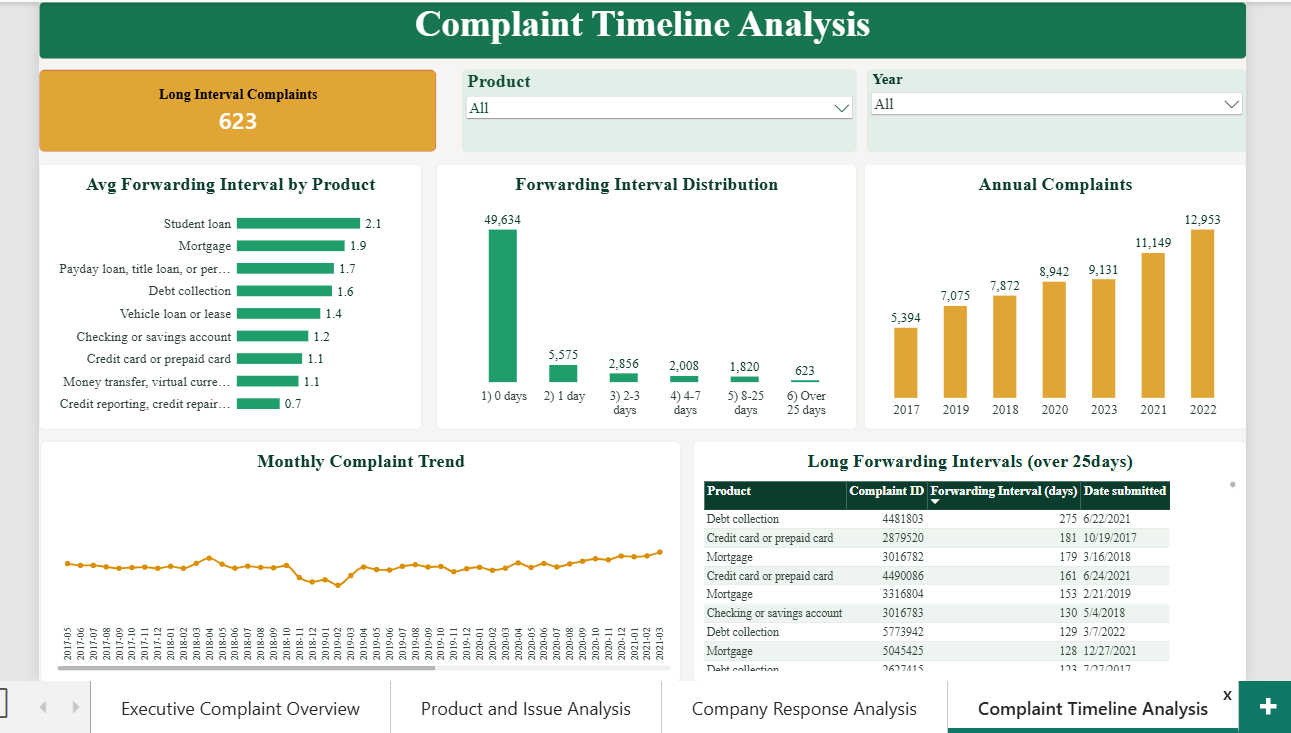

The page's visual inventory and layout, read from the dashboard file:
{"tool":"powerbi","page":{"name":"Complaint Timeline Analysis","canvas":[1920,1080],"ordinal":3},"visuals":[{"type":"lineChart","title":"Monthly Complaint Trend","fields":{"Category":["Data.Year-Month"],"Y":["Data.Total Complaints"]},"box":[2.4,699.1,1018.8,381.7],"z":0},{"type":"clusteredColumnChart","title":"Annual Complaints","fields":{"Category":["Data.YEAR"],"Y":["Data.Total Complaints"]},"box":[1312.3,257.7,608.4,422.3],"z":1000},{"type":"clusteredColumnChart","title":"Forwarding Interval Distribution","fields":{"Category":["Data.Interval Band"],"Y":["Data.Total Complaints"]},"box":[632.3,257.7,668.1,422.3],"z":3000},{"type":"clusteredBarChart","fields":{"Category":["Data.Product"],"Y":["Data.Avg Forwarding Interval"]},"box":[0,257.7,608.4,422.3],"z":4000},{"type":"tableEx","title":"Long Forwarding Intervals (over 25days)","fields":{"Values":["Data.Product","Data.Complaint ID","Data.Forwarding Interval (days)","Data.Date submitted"]},"box":[1040.3,699.1,880.4,381.7],"z":5000},{"type":"cardVisual","fields":{"Data":["Data.Long Interval Complaints"]},"box":[0,107.4,632.3,131.2],"z":6000},{"type":"textbox","box":[0,0,1920.7,90.7],"z":7000},{"type":"slicer","fields":{"Values":["Data.Date received.Variation.Date Hierarchy.Year"]},"box":[1317,107.4,603.6,131.2],"z":8000},{"type":"slicer","fields":{"Values":["Data.Product"]},"box":[672.8,107.4,627.5,131.2],"z":9000}]}

Visuals, with their boxes on the page's 1920x1080 design canvas (x1, y1, x2, y2). These are canvas units, not pixel positions in the 1291x733 screenshot, which may show the page scaled, cropped or inside an application window:
"Monthly Complaint Trend" lineChart: 2:699:1021:1081
"Annual Complaints" clusteredColumnChart: 1312:258:1921:680
"Forwarding Interval Distribution" clusteredColumnChart: 632:258:1300:680
clusteredBarChart - Data.Product x Data.Avg Forwarding Interval: 0:258:608:680
"Long Forwarding Intervals (over 25days)" tableEx: 1040:699:1921:1081
cardVisual - Data.Long Interval Complaints: 0:107:632:239
textbox: 0:0:1921:91
slicer - Data.Date received.Variation.Date Hierarchy.Year: 1317:107:1921:239
slicer - Data.Product: 673:107:1300:239
